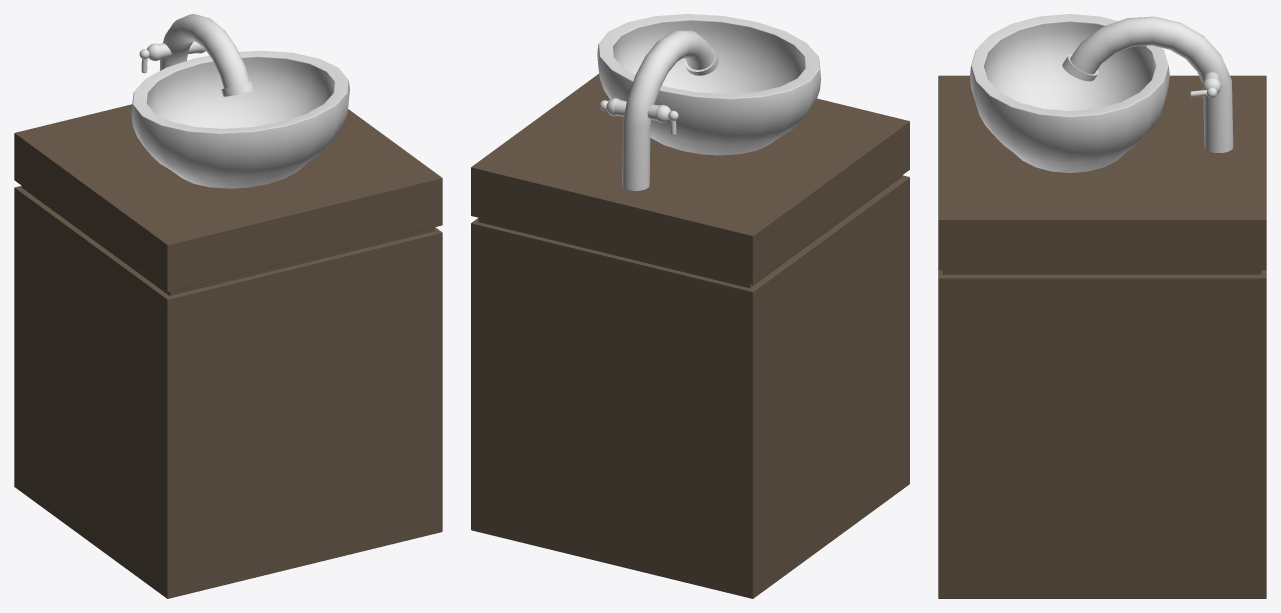
File: bathroomSink.fbx
The picture shows the model from 3 angles, left to right: view 1: azimuth 30°, elevation 25°; view 2: azimuth 150°, elevation 25°; view 3: azimuth 270°, elevation 25°; orthographic projection. The views are drawn at different scales.
Visible parts, largest first — view 1: bathroomSink; view 2: bathroomSink; view 3: bathroomSink.
Part boxes in pixels (left/top/right/bottom): bathroomSink: left=14, top=14, right=442, bottom=598; bathroomSink: left=471, top=14, right=909, bottom=598; bathroomSink: left=938, top=14, right=1266, bottom=598.
Bounding box in the file's own units: 32.53 × 53.59 × 31.34.
